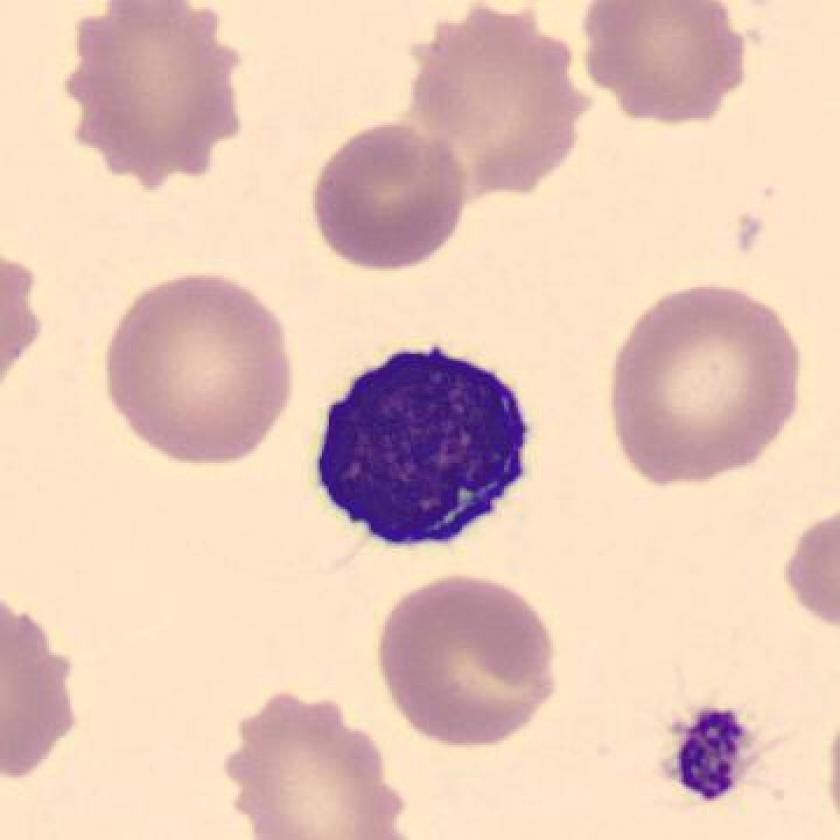lymphocyte: (304, 332, 538, 566)
